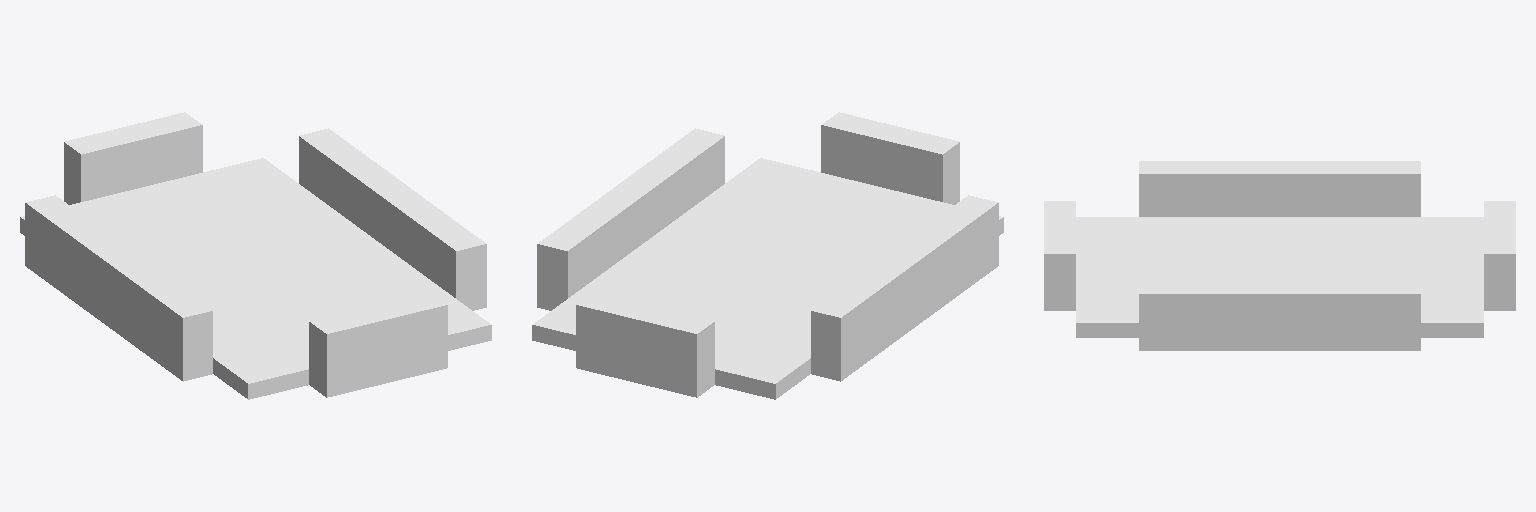
The robot description file, URDF, robot "test1_0.urdf":
<?xml version="1.0" ?>
<robot name="test1_0.urdf">
  <link name="baseLink">
    <contact>
      <lateral_friction value="1.0"/>
      <inertia_scaling value="1.0"/>
    </contact>
    <inertial>
      <origin rpy="0 0 0" xyz="0.000000 0.000000 0.000000"/>
      <mass value="0.000000"/>
      <inertia ixx="0.000000" ixy="0.000000" ixz="0.000000" iyy="0.000000" iyz="0.000000" izz="0.000000"/>
    </inertial>
    <visual>
      <origin rpy="0 0 0" xyz="0 0 0"/>
      <geometry>
       <mesh filename="test1_0_vhacd.obj" scale="1 1 1"/>
      </geometry>
       <material name="white">
        <color rgba="1 1 1 1"/>
      </material>
    </visual>
    <collision>
      <origin rpy="0 0 0" xyz="0 0 0"/>
      <geometry>
        <mesh filename="test1_0_vhacd.obj" scale="1 1 1"/>
      </geometry>
    </collision>
  </link>
</robot>

--- Render facts (derived) ---
3 views of the same robot in one strip: view 1: azimuth 30°, elevation 25°; view 2: azimuth 150°, elevation 25°; view 3: azimuth 270°, elevation 25° (orthographic).
Robot: test1_0.urdf — 1 links, 0 joints (none); root link baseLink; default pose: every joint at zero.
Visible links, largest first — view 1: baseLink; view 2: baseLink; view 3: baseLink.
Link boxes in pixels (x1,y1,x2,y2): baseLink: (20,112,491,399); baseLink: (532,112,1003,399); baseLink: (1044,161,1515,350).
Bounding box of the posed robot: 0.2 × 0.3 × 0.04 m (x, y, z).
1 mesh visuals loaded from 1 distinct referenced files (1 OBJ).